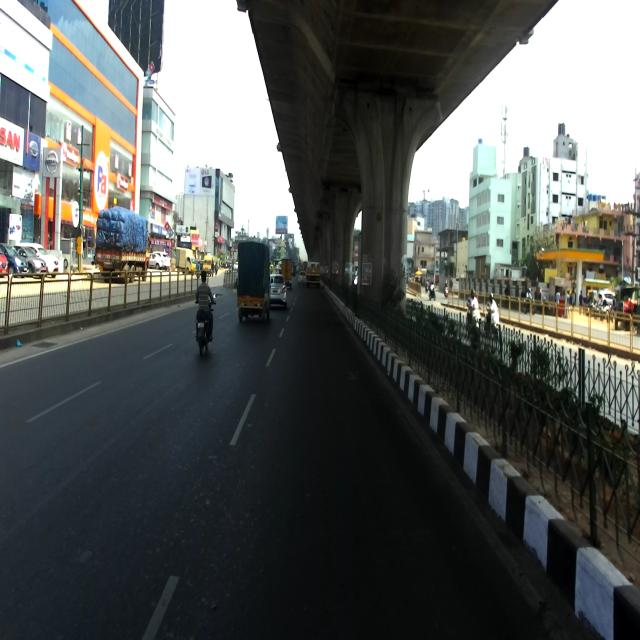car ahead at: (235, 238, 272, 331)
